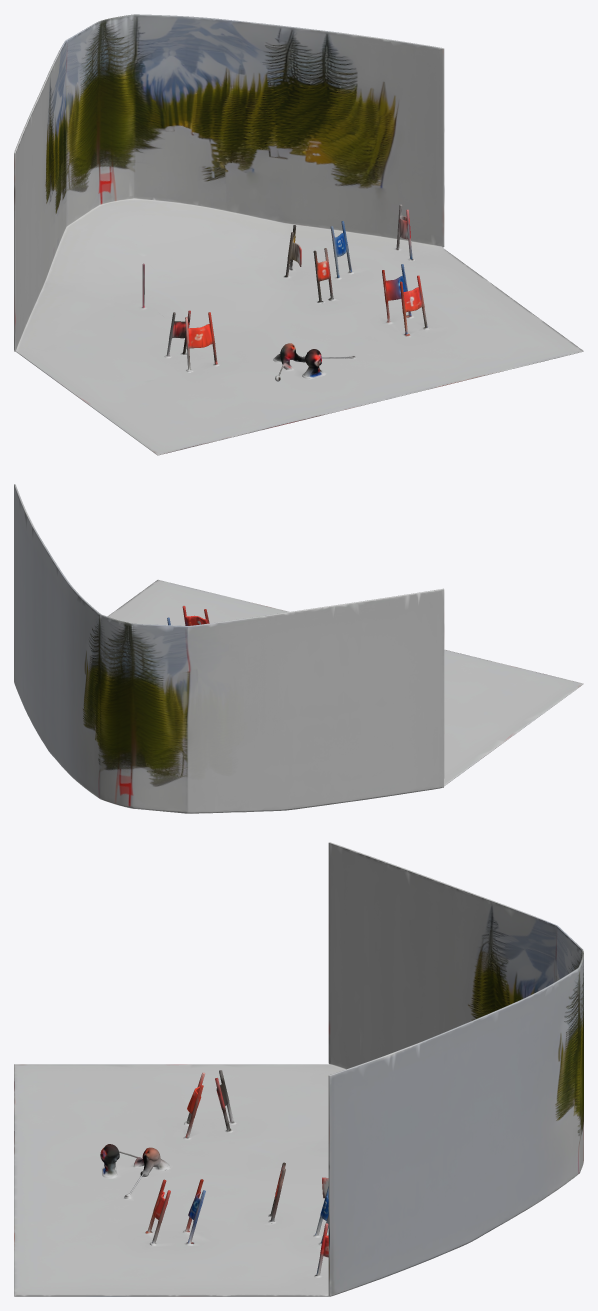
Rendered from mountain_slope_environment_model_fbx.fbx.
The picture shows the model from 3 angles, top to bottom: view 1: azimuth 30°, elevation 25°; view 2: azimuth 150°, elevation 25°; view 3: azimuth 270°, elevation 25°; orthographic projection. The views are drawn at different scales.
Visible parts, largest first — view 1: Empty; view 2: Empty; view 3: Empty.
Boxes of the visible parts, x1=… form: Empty: x1=14, y1=14, x2=583, y2=455; Empty: x1=14, y1=484, x2=583, y2=813; Empty: x1=14, y1=842, x2=583, y2=1296.
Size of the model in its own units: 2.71 by 1.2 by 2.79.
1 material, 1 textured.
